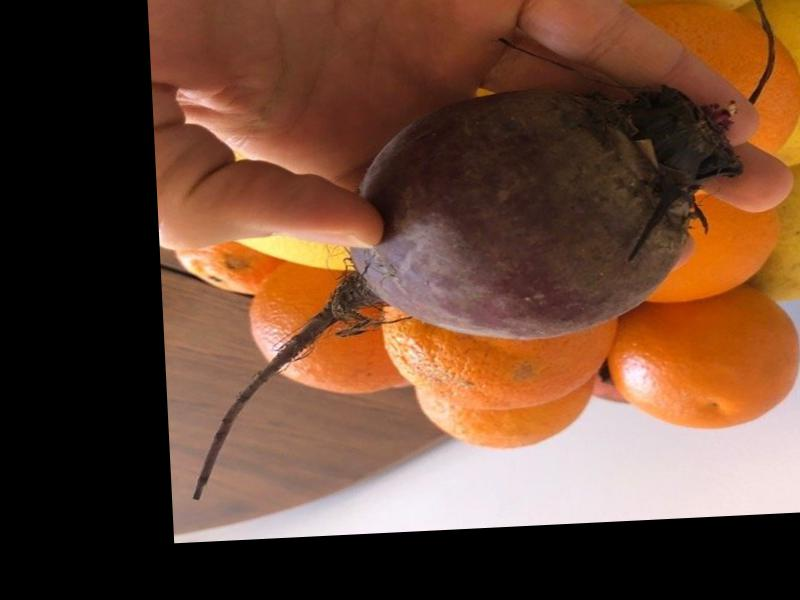Beet: (174, 80, 748, 500)
